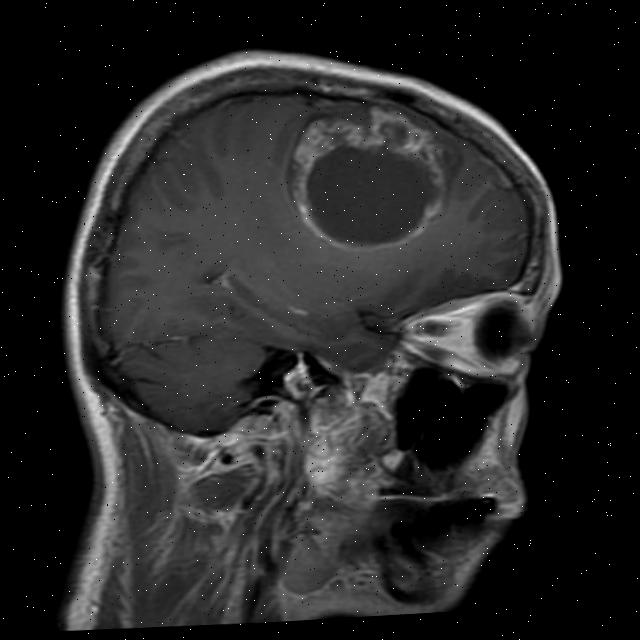Glioma: (287, 98, 454, 256)
